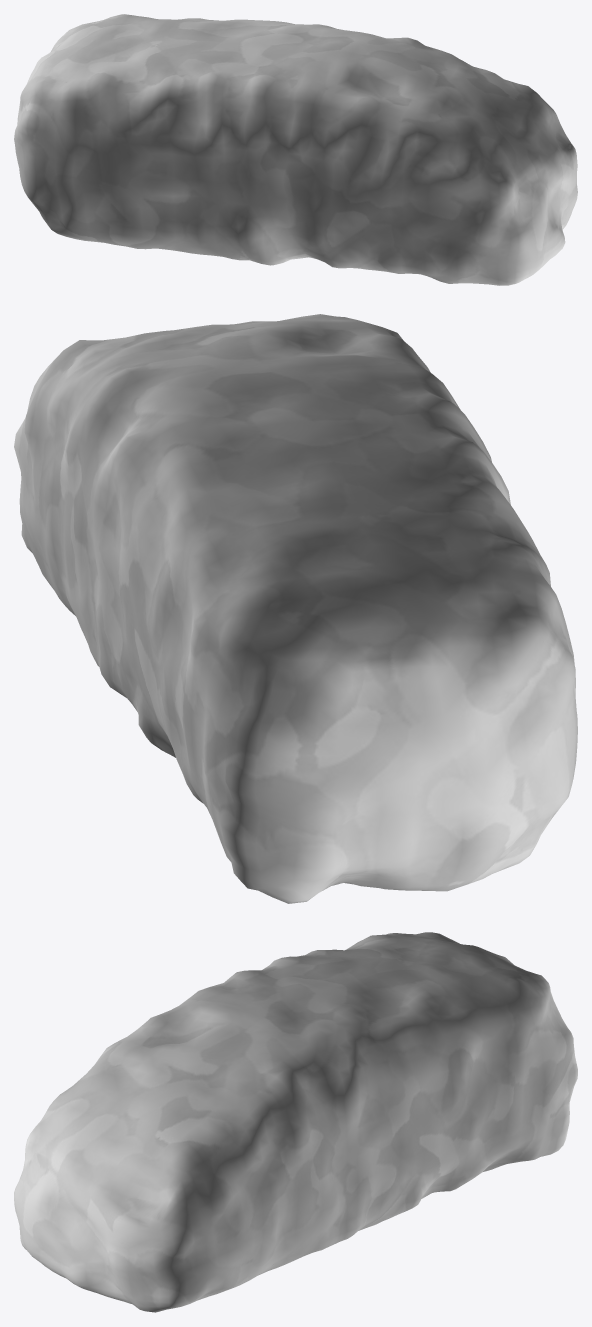
Rendered from rice.obj.
3 renders of one model, top to bottom at view 1: azimuth 30°, elevation 25°; view 2: azimuth 150°, elevation 25°; view 3: azimuth 270°, elevation 25°, orthographic. The views are drawn at different scales.
Visible parts, largest first — view 1: obj6; view 2: obj6; view 3: obj6.
Boxes of the visible parts, x1,y1,x2,y2 form: obj6: [14, 14, 577, 285]; obj6: [14, 314, 577, 903]; obj6: [14, 932, 577, 1312].
Size of the model in its own units: 0.061 by 0.0257 by 0.0615.
Materials: 1 (1 with a texture image).
